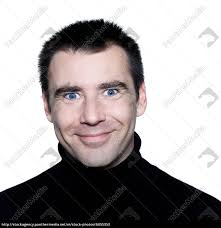white_male: (50, 65, 136, 157)
